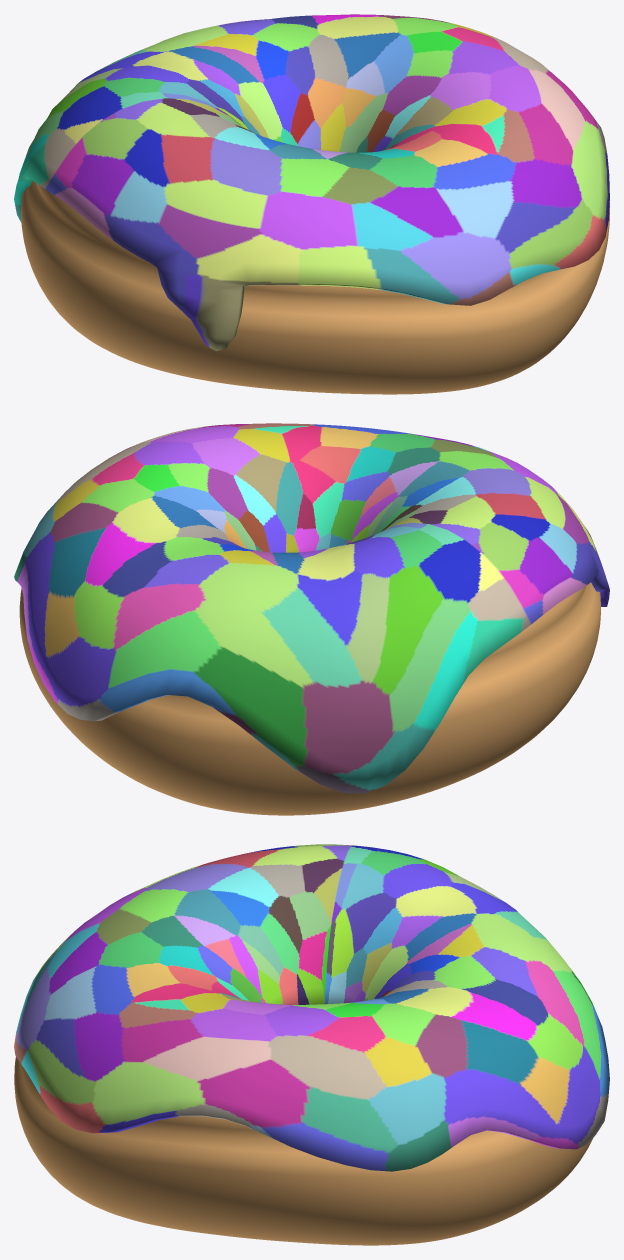
File: salatex.fbx
3 renders of one model, top to bottom at view 1: azimuth 30°, elevation 25°; view 2: azimuth 150°, elevation 25°; view 3: azimuth 270°, elevation 25°, orthographic. The views are drawn at different scales.
Parts seen in each view (by area): view 1: Icing, Donut; view 2: Icing, Donut; view 3: Icing, Donut.
Boxes of the visible parts, x1=… form: Icing: x1=14, y1=14, x2=609, y2=351; Donut: x1=21, y1=181, x2=609, y2=394; Icing: x1=14, y1=423, x2=609, y2=793; Donut: x1=19, y1=582, x2=600, y2=815; Icing: x1=14, y1=844, x2=609, y2=1171; Donut: x1=14, y1=1057, x2=592, y2=1245.
Size of the model in its own units: 9.75 by 4.63 by 9.81.
2 materials, 1 textured.
